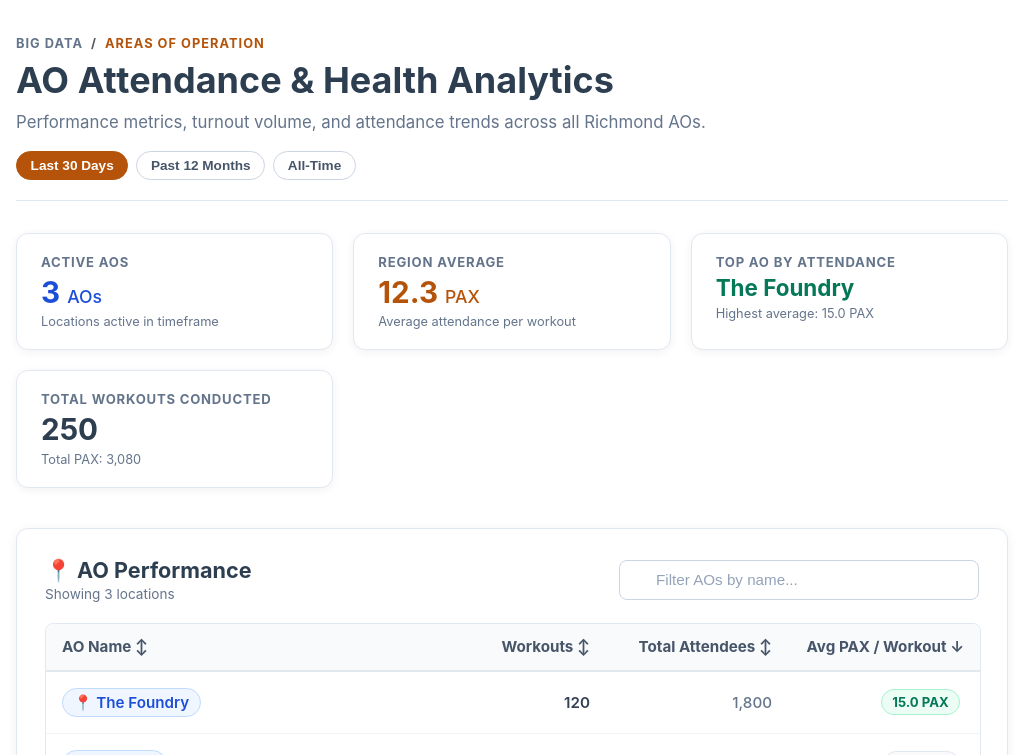
it: AOReport Component › filters AOs by search input
This screenshot has width=1024, height=755.
Check: the text "The Foundry" is shown, box [716,274,854,301]
Type "Dogpile" into the field with placeholder "Filter AOs by name..." at (799, 580), box [619,560,979,600]
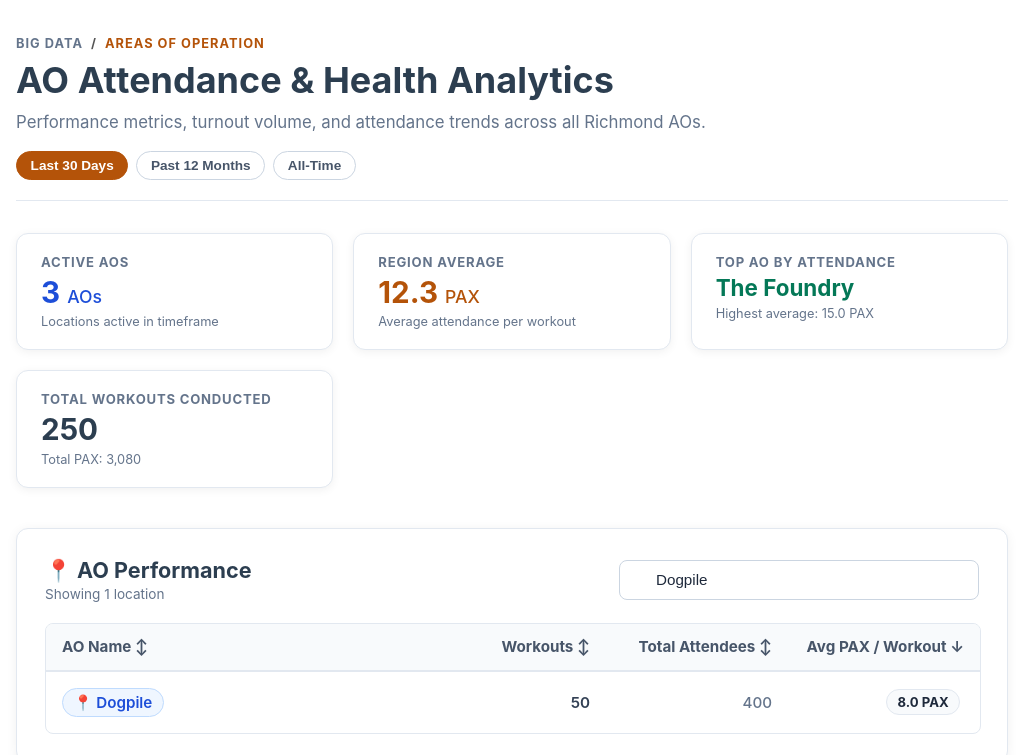
Check: the number of links "📍 Dogpile" is 2
